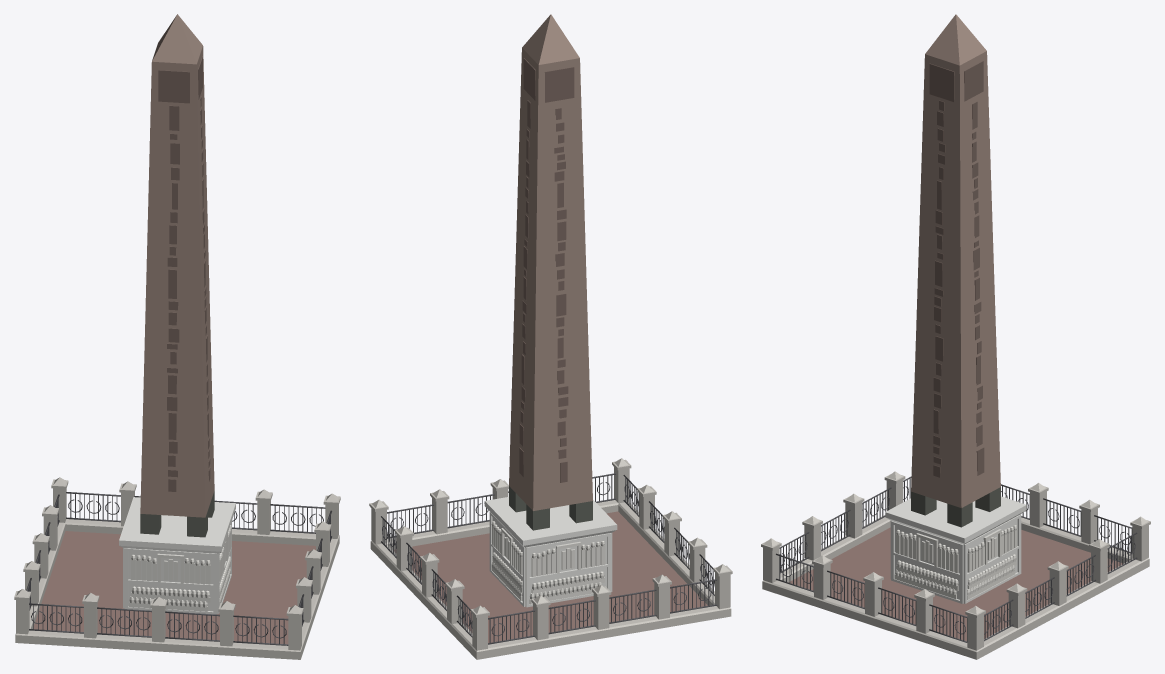
File: obelisk-of-theodosius.glb
3 renders of one model, left to right at view 1: azimuth 30°, elevation 25°; view 2: azimuth 150°, elevation 25°; view 3: azimuth 270°, elevation 25°, orthographic. The views are drawn at different scales.
Visible parts, largest first — view 1: obelisk-of-theodosius; view 2: obelisk-of-theodosius; view 3: obelisk-of-theodosius.
Boxes of the visible parts, box(x1,y1,x2,y2) form: obelisk-of-theodosius: box(14, 14, 340, 659); obelisk-of-theodosius: box(369, 14, 732, 659); obelisk-of-theodosius: box(761, 14, 1150, 659).
Bounding box in the file's own units: 13.81 × 21.95 × 13.76.
